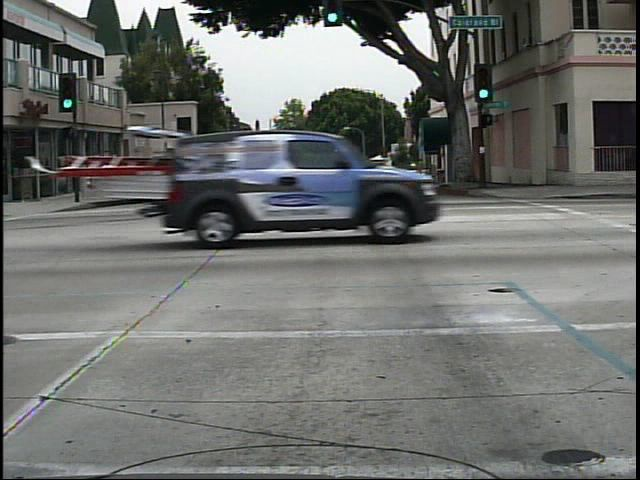person: (455, 140, 484, 196), (95, 153, 122, 202)
